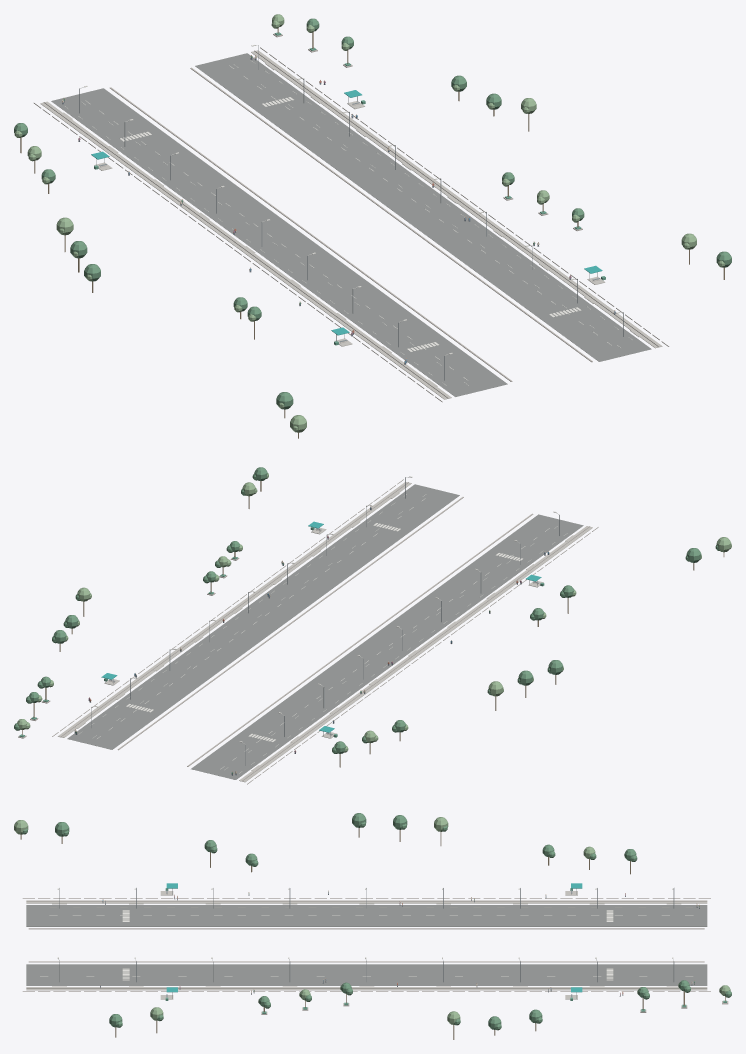
The picture shows the model from 3 angles, top to bottom: view 1: azimuth 30°, elevation 25°; view 2: azimuth 150°, elevation 25°; view 3: azimuth 270°, elevation 25°; orthographic projection. The views are drawn at different scales.
Parts seen in each view (by area): view 1: nearby/4; view 2: nearby/4; view 3: nearby/4.
Boxes of the visible parts, x1=… form: nearby/4: x1=14, y1=14, x2=731, y2=438; nearby/4: x1=14, y1=467, x2=731, y2=784; nearby/4: x1=14, y1=813, x2=731, y2=1039.
Bounding box in the file's own units: 192 × 12.28 × 280.
